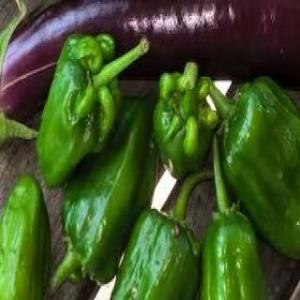bell_pepper: (35, 31, 148, 189), (150, 60, 218, 180)
